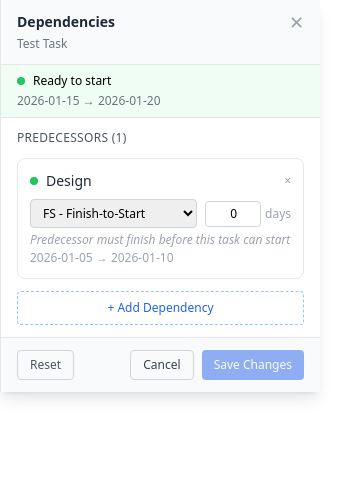
Test: DependencyDrawer › resets changes when Reset clicked
// Modify lag
Step 1. Replace the text in the number field titled "Lag days (negative = lead)" with "5" → point(233, 214), box [205,200,261,226]
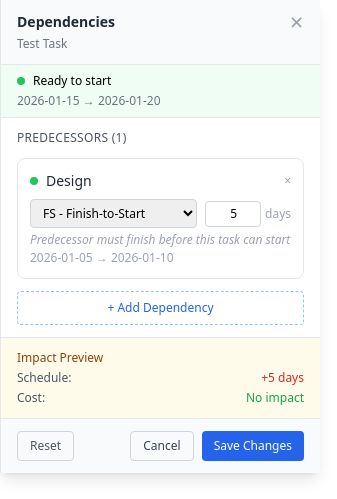
// Click Reset
Step 2. Click the button "Reset" → point(46, 446), box [17,431,74,461]
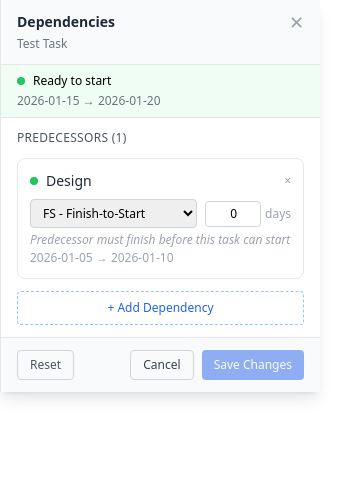
Now the number field titled "Lag days (negative = lead)" holds "0", box [205,200,261,226]
